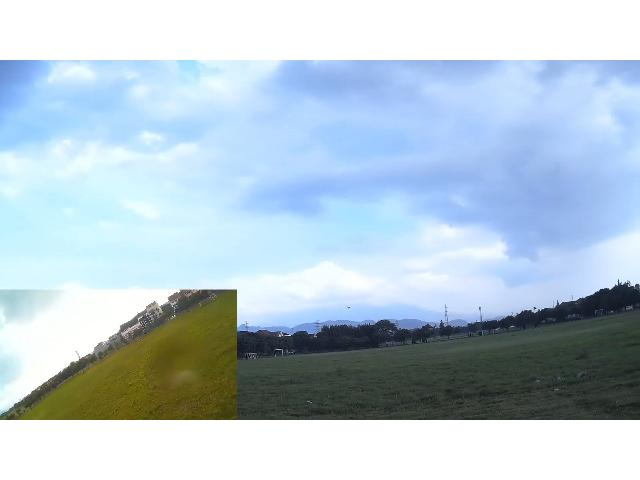Anti-Drone: (340, 303, 360, 315)
